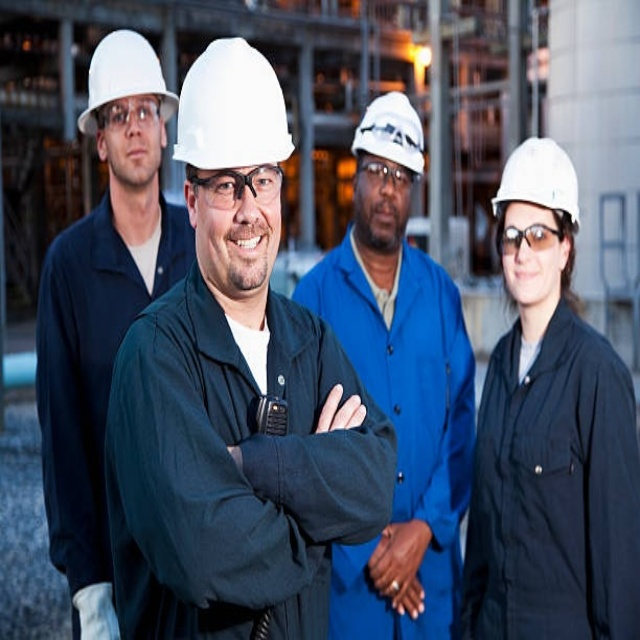Gafas: (192, 165, 284, 208), (98, 98, 163, 130), (499, 223, 563, 253), (359, 121, 422, 151), (358, 159, 418, 190)
Guantes: (73, 581, 124, 640)
Sin_guantes: (368, 518, 430, 617)
Sin_mascara: (222, 229, 267, 281), (367, 202, 402, 240), (512, 262, 542, 303), (122, 141, 151, 179)
